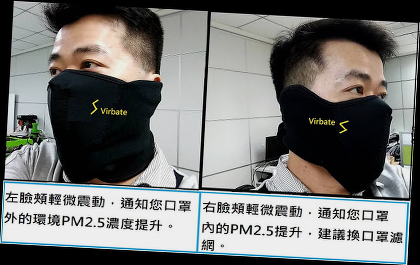with_mask: (45, 39, 154, 168), (308, 66, 389, 182)
